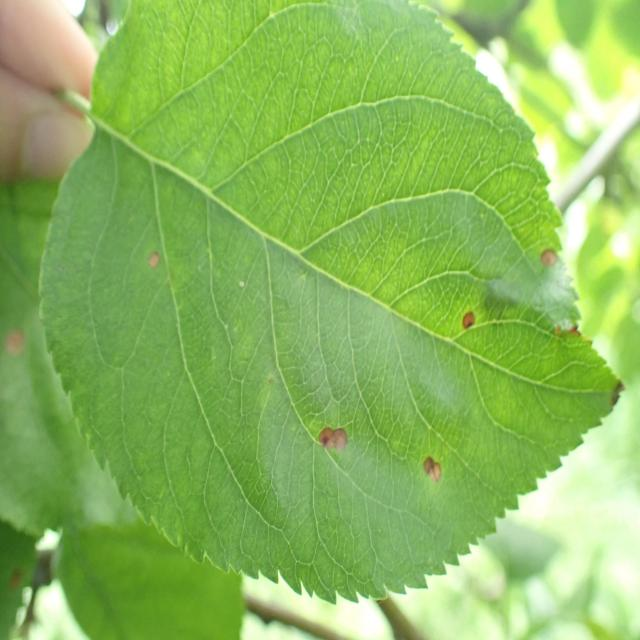Black Rot: (0, 322, 43, 383), (453, 282, 487, 357), (419, 441, 452, 514), (314, 416, 358, 468), (527, 233, 570, 286), (140, 237, 170, 292)
